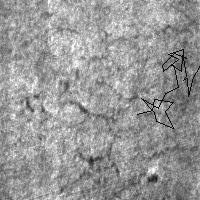crazing: (47, 94, 169, 161), (57, 137, 162, 194), (137, 49, 200, 128)
